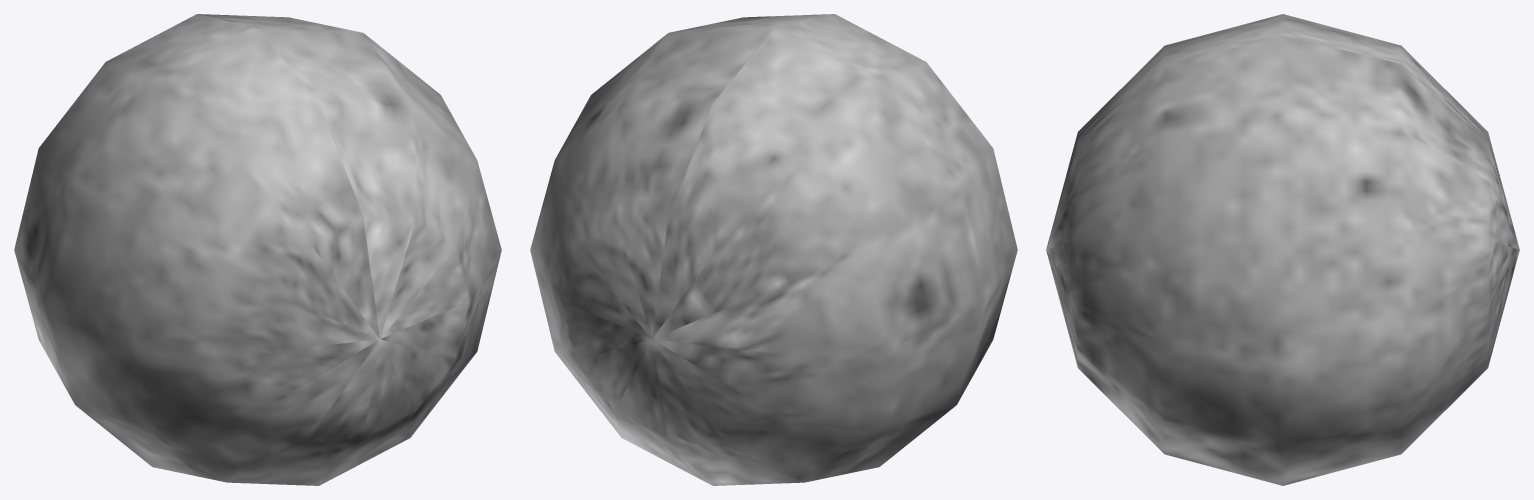
Rendered from chysukmoon.glb.
3 renders of one model, left to right at view 1: azimuth 30°, elevation 25°; view 2: azimuth 150°, elevation 25°; view 3: azimuth 270°, elevation 25°, orthographic. The views are drawn at different scales.
Visible parts, largest first — view 1: model_chysukmoon; view 2: model_chysukmoon; view 3: model_chysukmoon.
Boxes of the visible parts, box(x1,y1,x2,y2) form: model_chysukmoon: box(14, 14, 501, 485); model_chysukmoon: box(530, 14, 1017, 485); model_chysukmoon: box(1046, 14, 1519, 485).
Bounding box in the file's own units: 1.44 × 1.44 × 1.44.
1 material, 1 textured.
